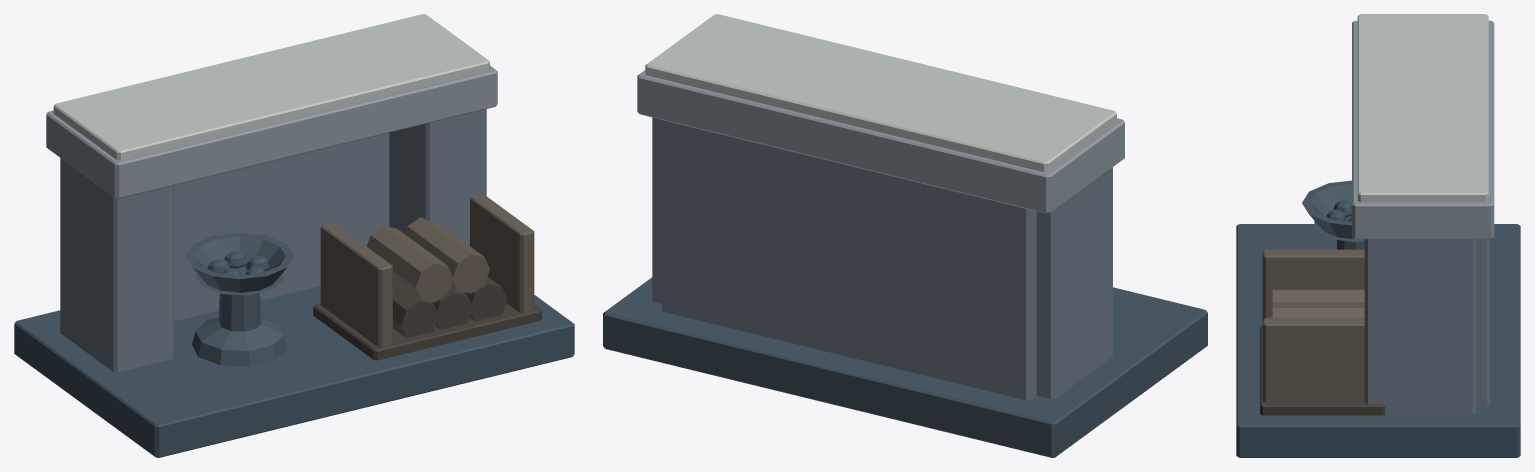
Rendered from winter-hearth.glb.
3 views of the same model, side by side, from view 1: azimuth 30°, elevation 25°; view 2: azimuth 150°, elevation 25°; view 3: azimuth 270°, elevation 25° (orthographic). The views are drawn at different scales.
Parts seen in each view (by area): view 1: winter-hearth__body; view 2: winter-hearth__body; view 3: winter-hearth__body.
Boxes of the visible parts, bbox=[...] form: winter-hearth__body: bbox=[14, 14, 574, 457]; winter-hearth__body: bbox=[603, 14, 1207, 457]; winter-hearth__body: bbox=[1236, 14, 1520, 457].
Size of the model in its own units: 1.72 by 1 by 1.02.
